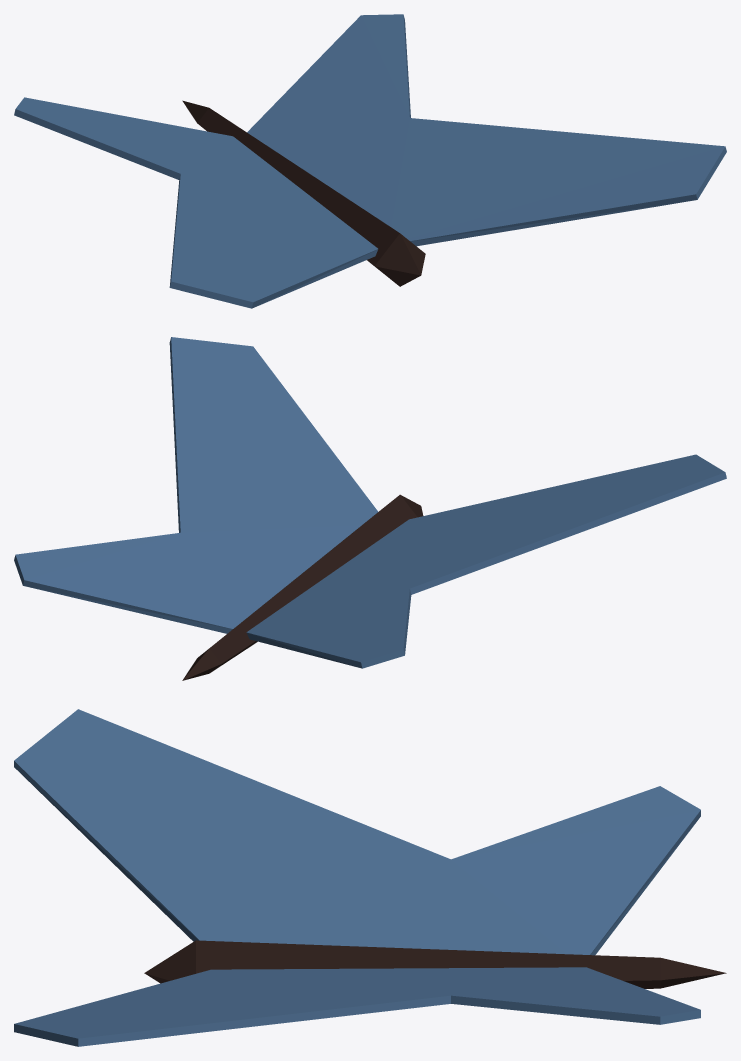
The model's file is ButterflyB_Open.fbx.
3 renders of one model, top to bottom at view 1: azimuth 30°, elevation 25°; view 2: azimuth 150°, elevation 25°; view 3: azimuth 270°, elevation 25°, orthographic. The views are drawn at different scales.
Visible parts, largest first — view 1: ButterflyB_Open; view 2: ButterflyB_Open; view 3: ButterflyB_Open.
Boxes of the visible parts, bbox=[...] form: ButterflyB_Open: bbox=[14, 14, 726, 308]; ButterflyB_Open: bbox=[14, 337, 726, 680]; ButterflyB_Open: bbox=[14, 709, 726, 1046].
Size of the model in its own units: 36.02 by 6.69 by 32.75.
